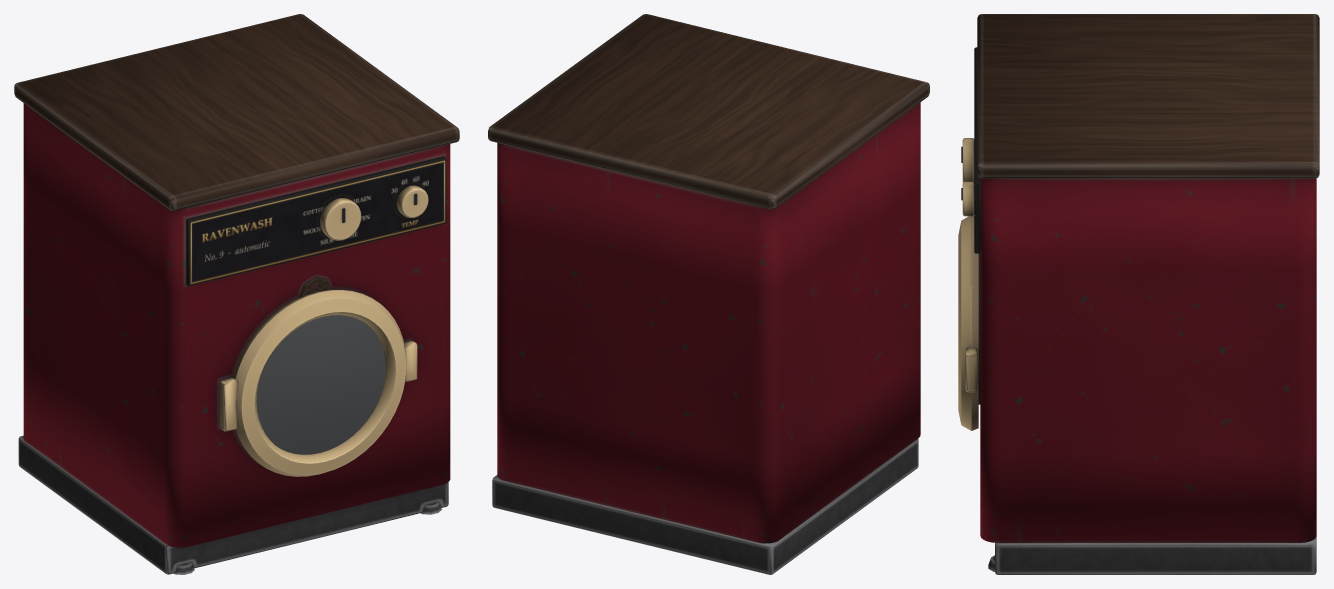
The model's file is WashingMachine.fbx.
3 renders of one model, left to right at view 1: azimuth 30°, elevation 25°; view 2: azimuth 150°, elevation 25°; view 3: azimuth 270°, elevation 25°, orthographic. The views are drawn at different scales.
Parts seen in each view (by area): view 1: WashingMachine_Main, WashingMachine_Glass; view 2: WashingMachine_Main; view 3: WashingMachine_Main.
Part boxes in pixels (box(x1,y1,x2,y2)): WashingMachine_Main: box(14, 14, 459, 574); WashingMachine_Glass: box(256, 315, 385, 454); WashingMachine_Main: box(488, 14, 929, 574); WashingMachine_Main: box(958, 14, 1319, 574).
Size of the model in its own units: 246 by 312 by 247.
